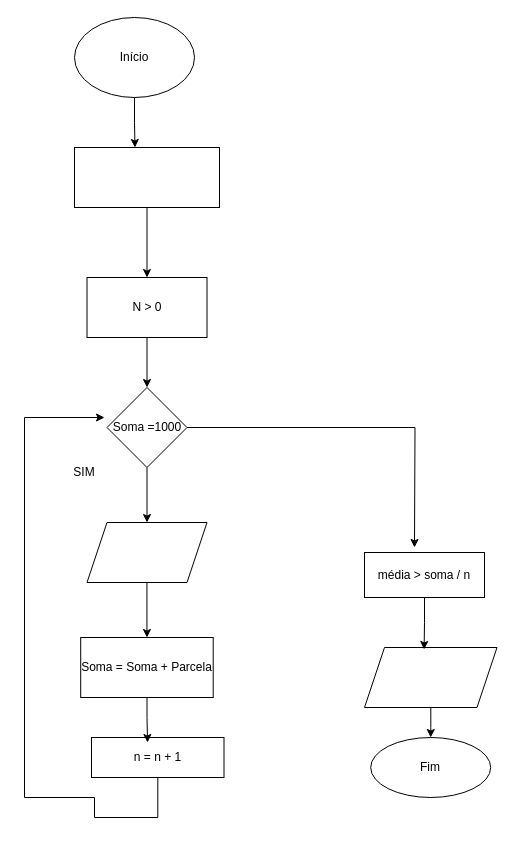
Some shapes in this 515 by 843 pixel diagram are drawn without their labels. Each missing label, with the centre of its shape:
"Ler parcelas" goes at point (146, 552).
"Mostrar soma e não a média" goes at point (430, 677).
"Soma > 0" goes at point (147, 177).
